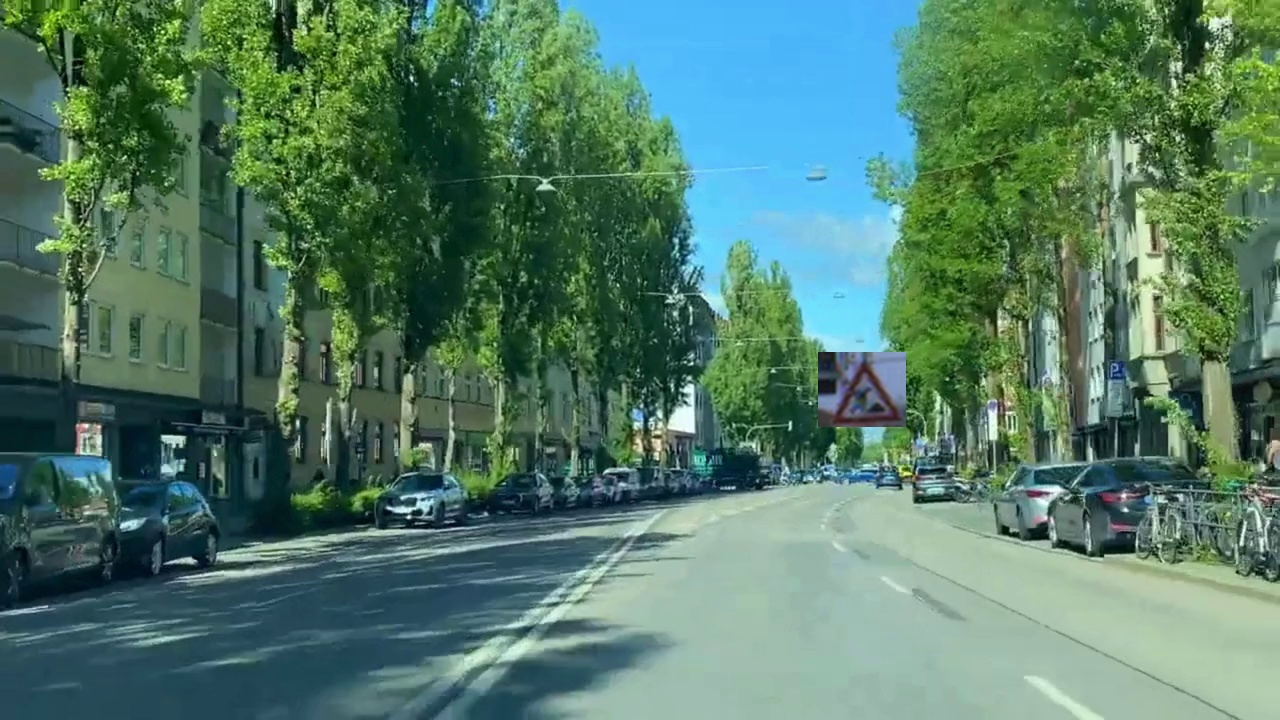Road work: (818, 352, 906, 427)
